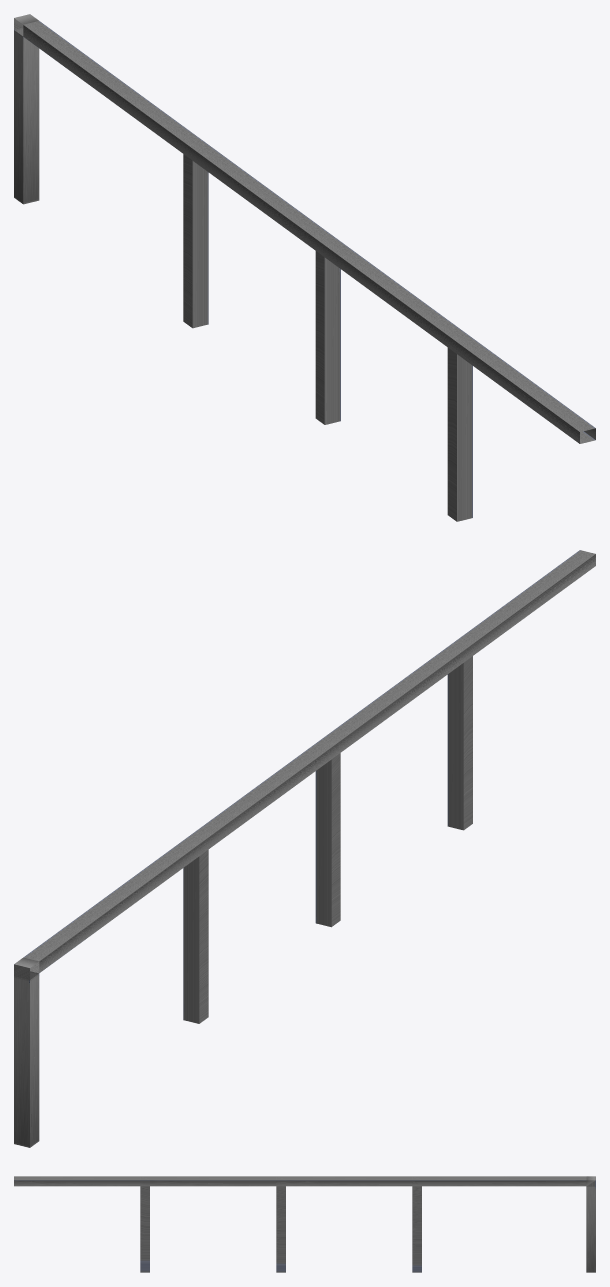
File: Railing8.obj
3 renders of one model, top to bottom at view 1: azimuth 30°, elevation 25°; view 2: azimuth 150°, elevation 25°; view 3: azimuth 270°, elevation 25°, orthographic. The views are drawn at different scales.
Visible parts, largest first — view 1: Box048; view 2: Box048; view 3: Box048.
Part boxes in pixels (bbox=[...]): Box048: bbox=[14, 14, 595, 521]; Box048: bbox=[14, 550, 595, 1147]; Box048: bbox=[14, 1176, 595, 1272].
Bounding box in the file's own units: 2.77 × 29.53 × 169.
